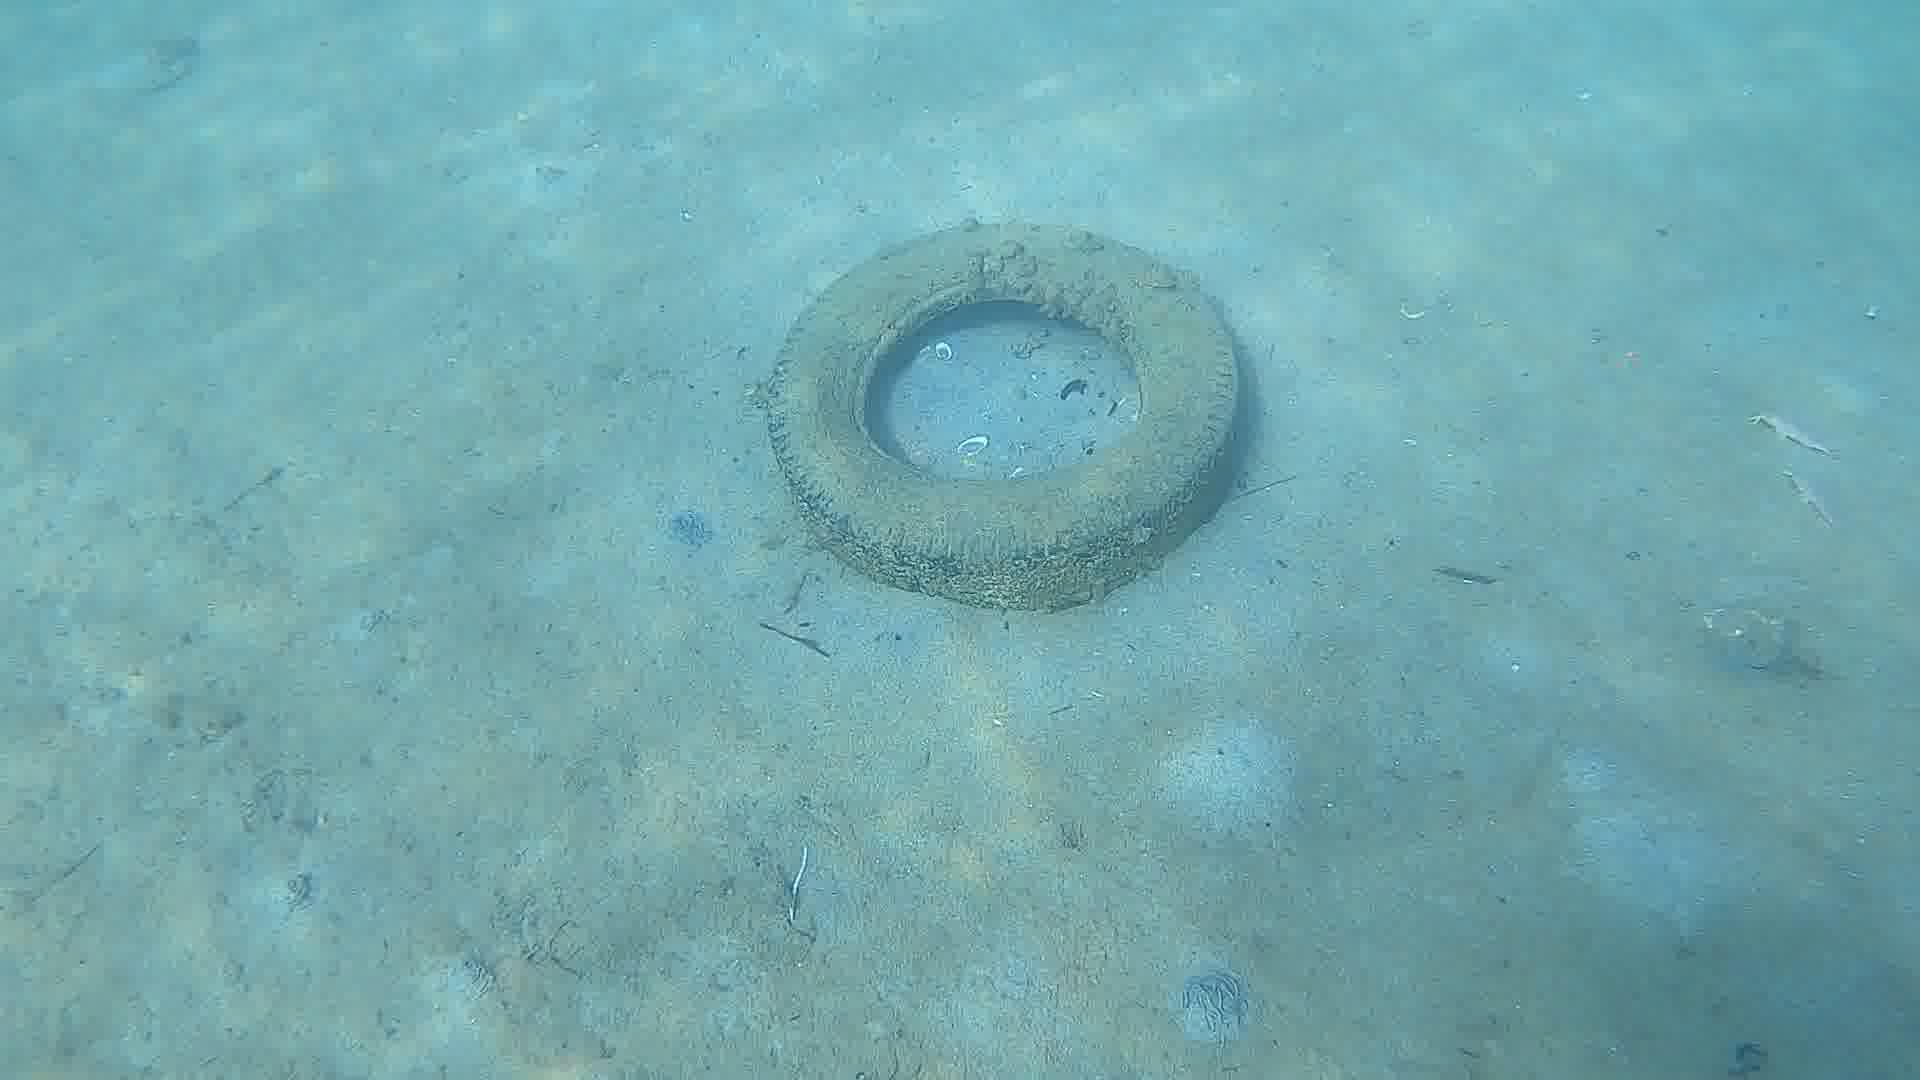tire: (760, 223, 1244, 613)
